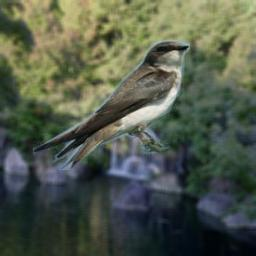Swallow: (33, 40, 190, 170)
